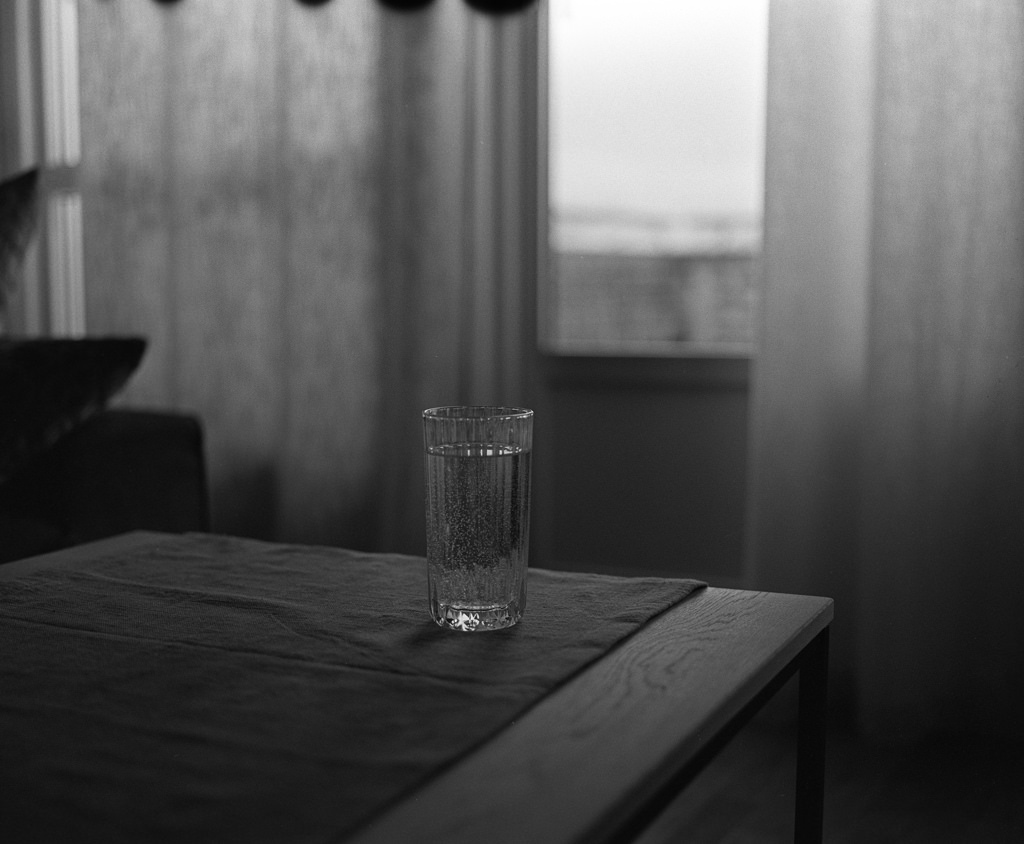glass of water: (399, 394, 555, 647)
